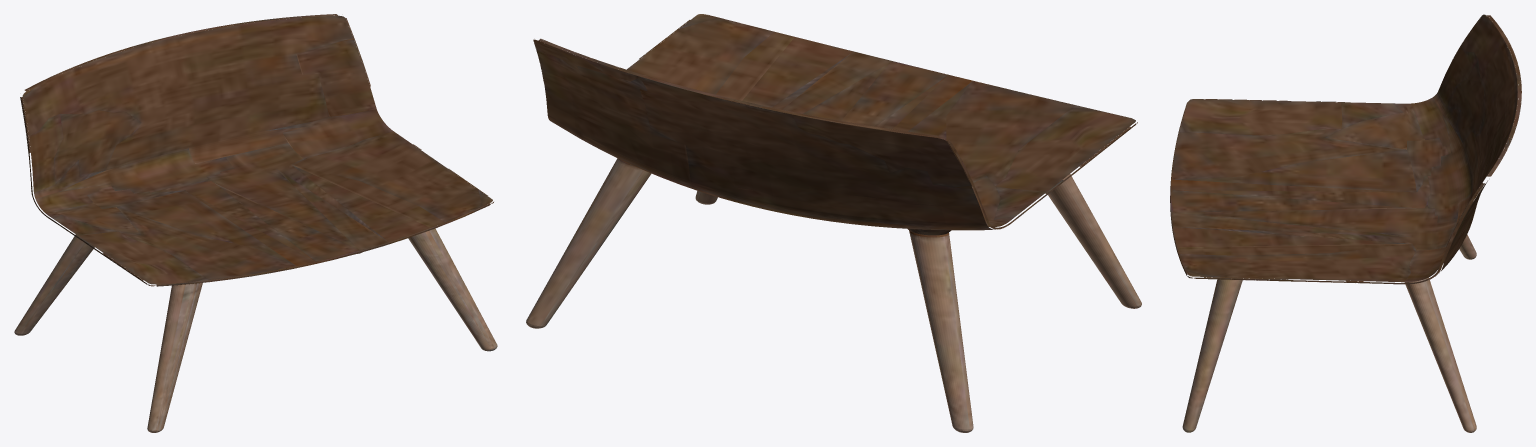
File: chair_18.glb
3 views of the same model, side by side, from view 1: azimuth 30°, elevation 25°; view 2: azimuth 150°, elevation 25°; view 3: azimuth 270°, elevation 25° (orthographic). The views are drawn at different scales.
Visible parts, largest first — view 1: chair_18; view 2: chair_18; view 3: chair_18.
Part boxes in pixels (x1,y1,x2,y2): chair_18: (14, 14, 497, 432); chair_18: (526, 14, 1141, 432); chair_18: (1170, 14, 1521, 432).
Bounding box in the file's own units: 1.86 × 1.21 × 1.53.
Materials: 1 (1 with a texture image).
